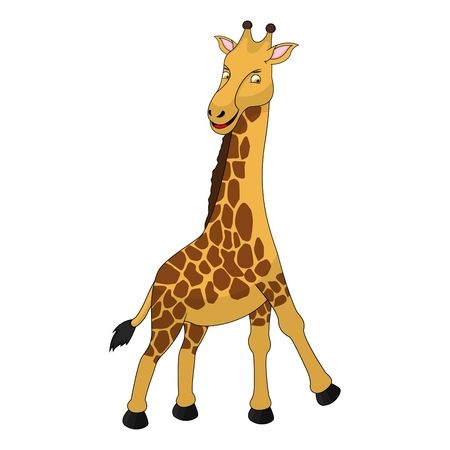Jirafa: (182, 14, 314, 146)
